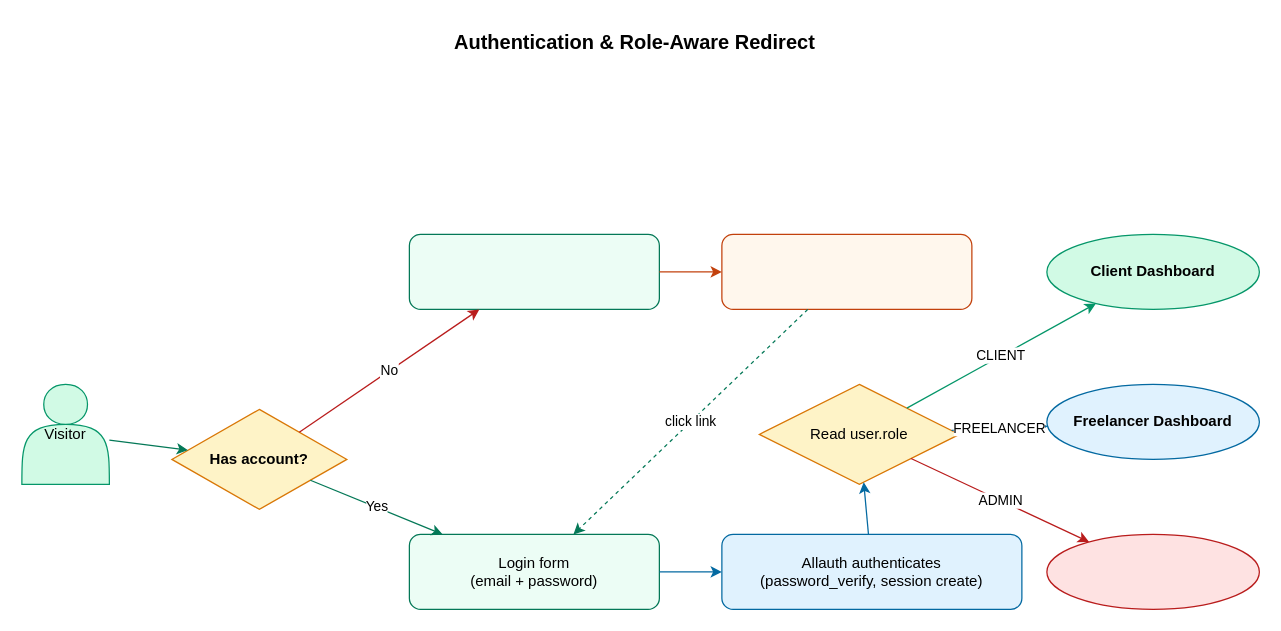
Some shapes in this 1281 by 631 pixel diagram are drawn without their labels. The shapes that lost their labels are listed below. From the top down, each one's box as (x1, y1, x2, y2) in pixels, then its label:
(408, 233, 659, 309): Signup form (email, password, role)
(721, 233, 972, 309): Send verification email (Allauth)
(1046, 533, 1259, 609): Admin Dashboard
